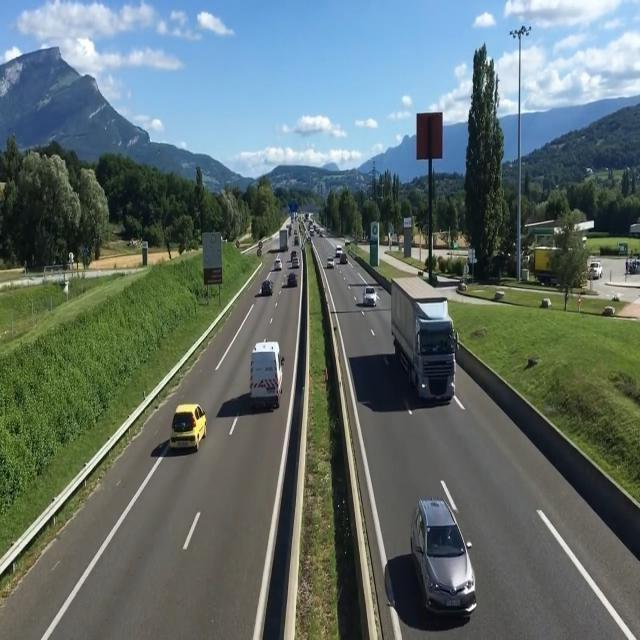Car: (408, 498, 480, 618), (170, 402, 208, 452), (362, 286, 378, 306), (590, 259, 604, 278), (262, 280, 274, 296), (286, 273, 296, 286), (325, 256, 335, 268), (273, 258, 282, 271), (291, 257, 299, 268)
Truck: (388, 276, 462, 405), (278, 227, 289, 253)
Van: (248, 340, 285, 411)
